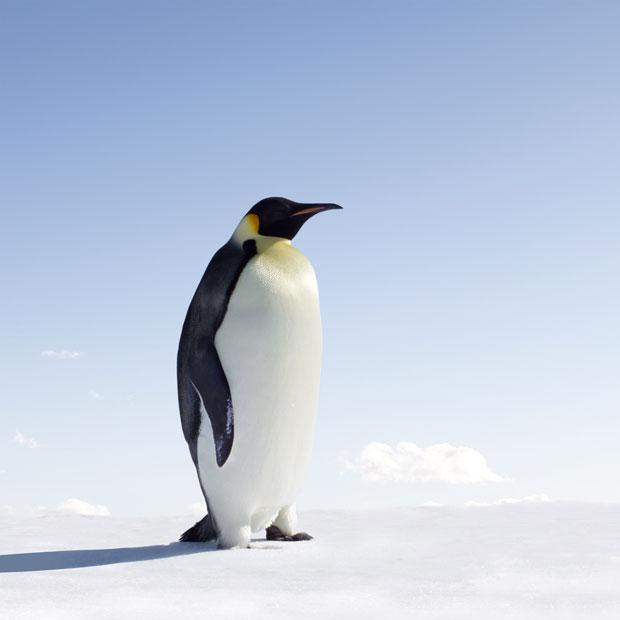emporer: (176, 186, 344, 563)
